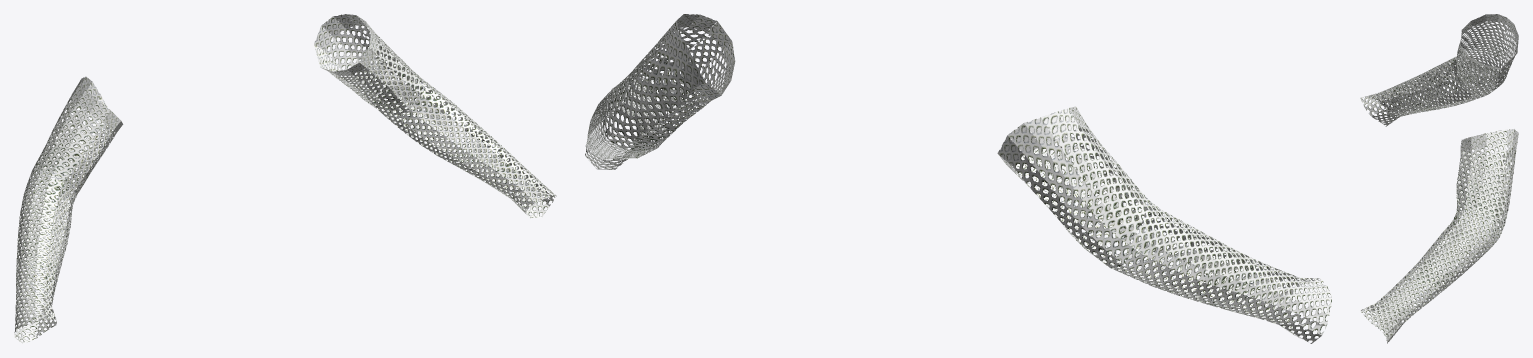
File: mhw_v0rt3x_armsleeves_white_fishnet_medium.glb
The picture shows the model from 3 angles, left to right: view 1: azimuth 30°, elevation 25°; view 2: azimuth 150°, elevation 25°; view 3: azimuth 270°, elevation 25°; orthographic projection. The views are drawn at different scales.
Parts seen in each view (by area): view 1: mhw_v0rt3x_armsleeves_white_fishnet_medium; view 2: mhw_v0rt3x_armsleeves_white_fishnet_medium; view 3: mhw_v0rt3x_armsleeves_white_fishnet_medium.
Part boxes in pixels (x1,y1,x2,y2): mhw_v0rt3x_armsleeves_white_fishnet_medium: [14, 14, 556, 343]; mhw_v0rt3x_armsleeves_white_fishnet_medium: [585, 14, 1331, 343]; mhw_v0rt3x_armsleeves_white_fishnet_medium: [1360, 14, 1518, 343].
Bounding box in the file's own units: 1.14 × 0.3737 × 0.3332.
1 material, 1 textured.
